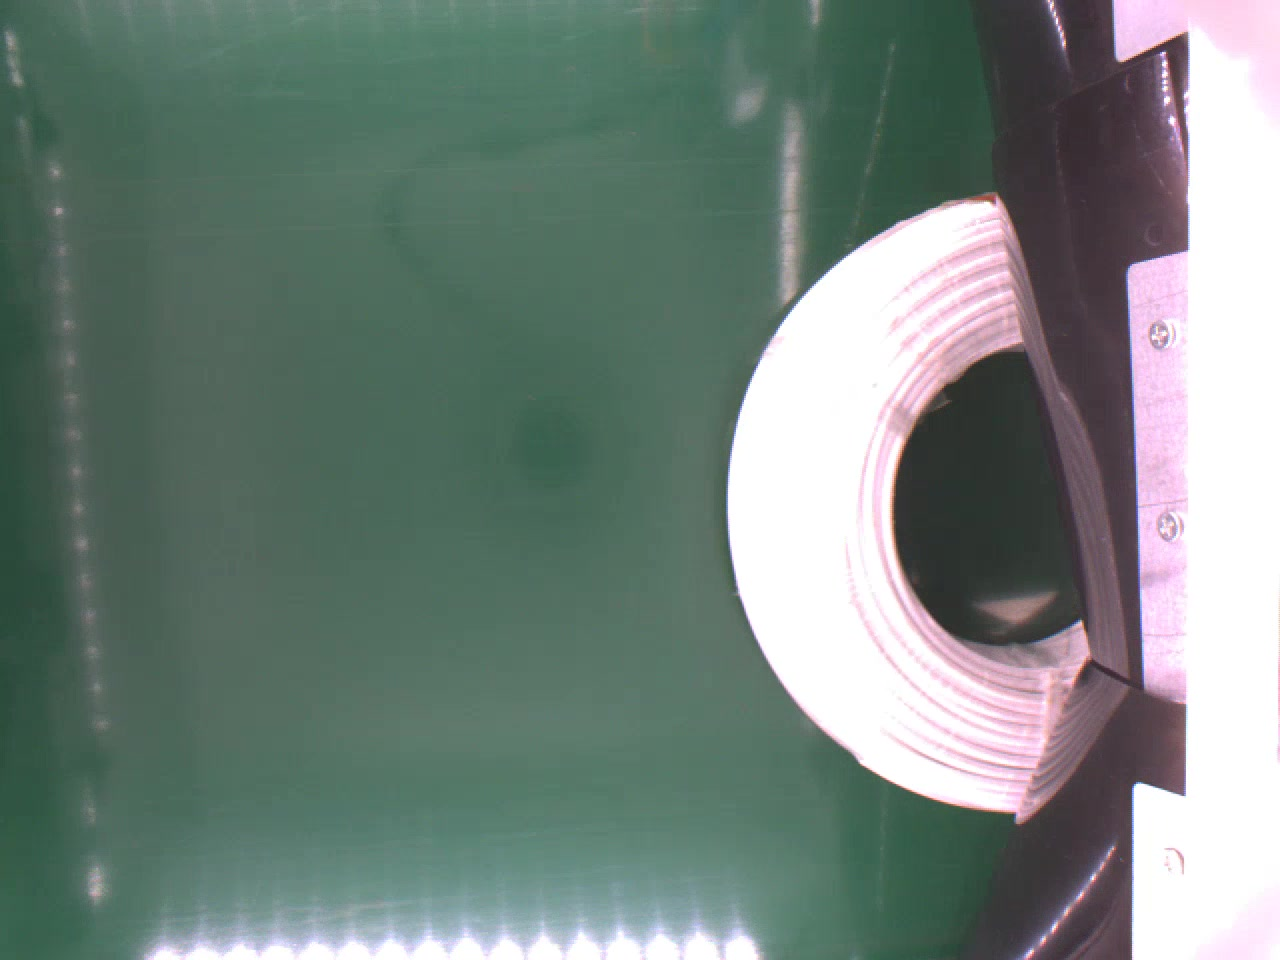white: (724, 189, 1095, 820)
